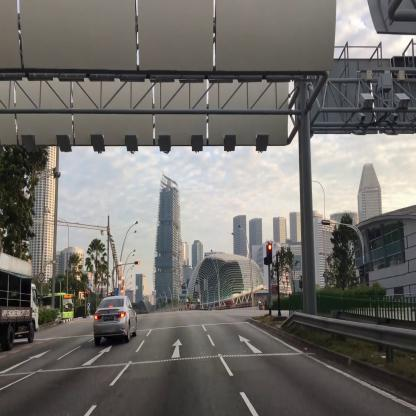red_traffic_light: (268, 243, 272, 264), (134, 261, 140, 264)
